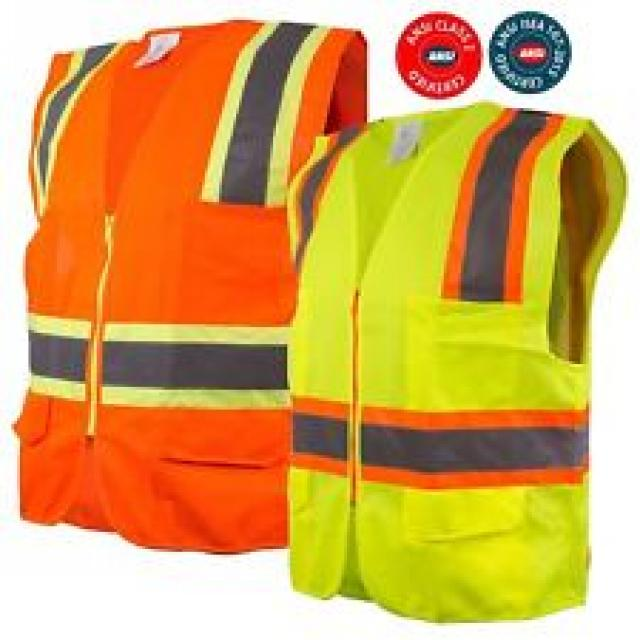Reflective-Jacket: (273, 80, 637, 617), (3, 9, 364, 546)
